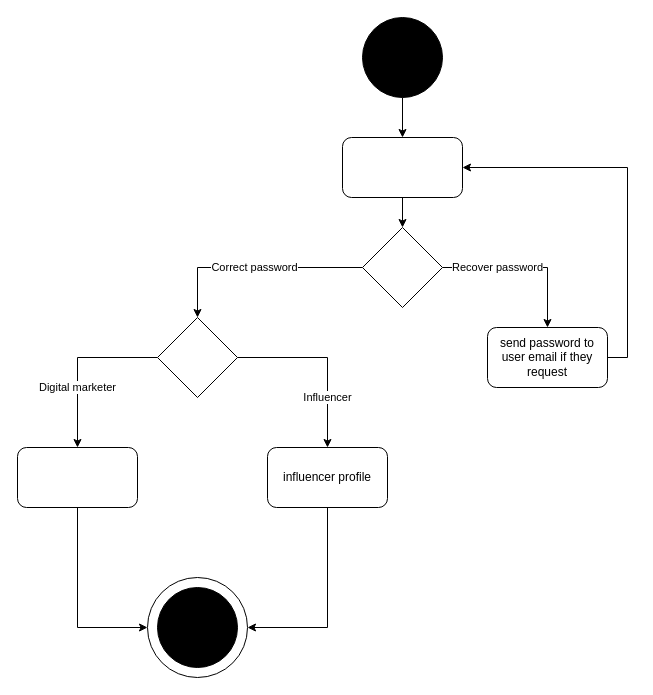
Image size: 653x695. Some labels were removed from this diagram. The shapes that lost their labels are listed below. From the top down, each one's centre as x and y in pixels, then its label:
At point (402, 167): "Get username and password".
At point (77, 477): "digital marketer profile".
